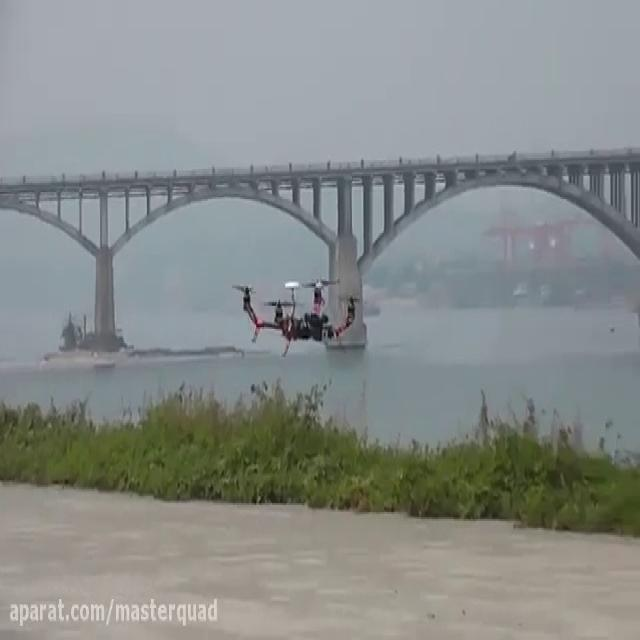drone: (228, 274, 369, 357)
